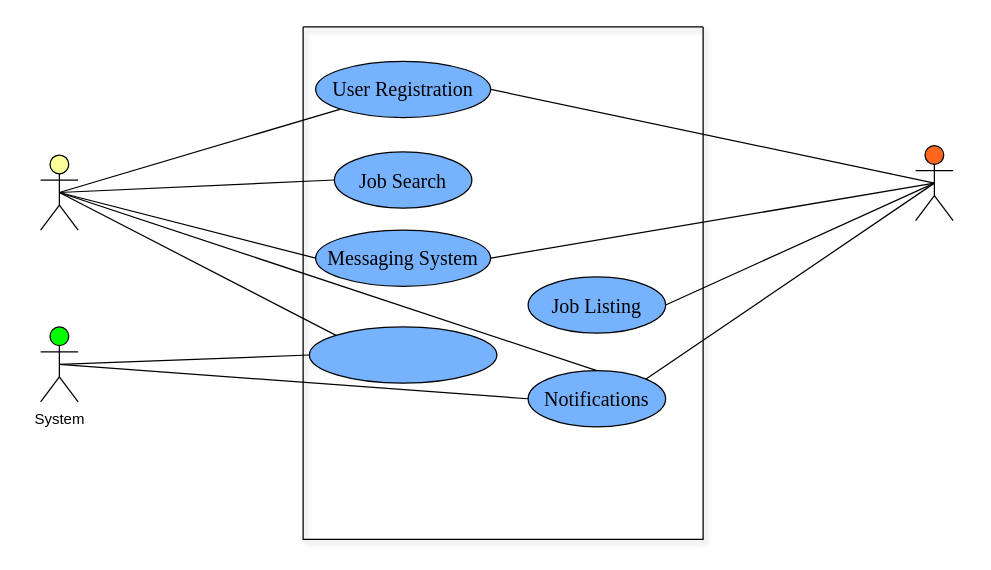
This 991x570 diagram has some shape labels left out. The centre of each missing label's shape, as x and y in pixels:
Employers: [933,182]
Job Seeker: [58,192]
Matching Algorithm: [402,354]
